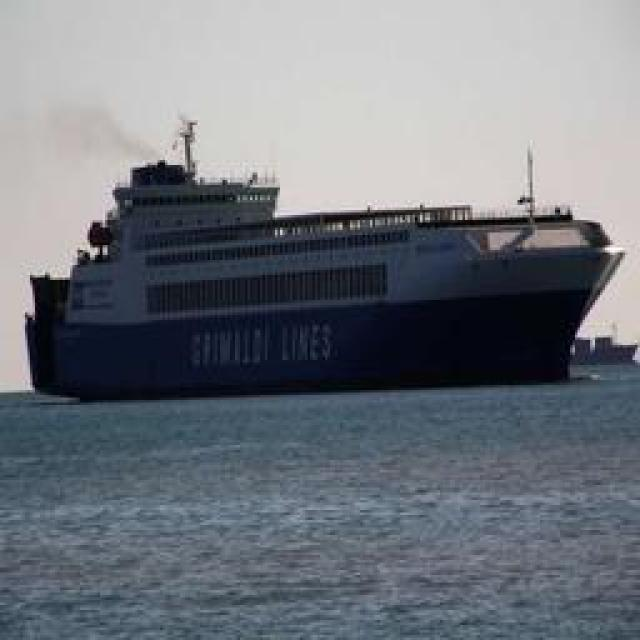CIV_Ship: (29, 147, 612, 395)
